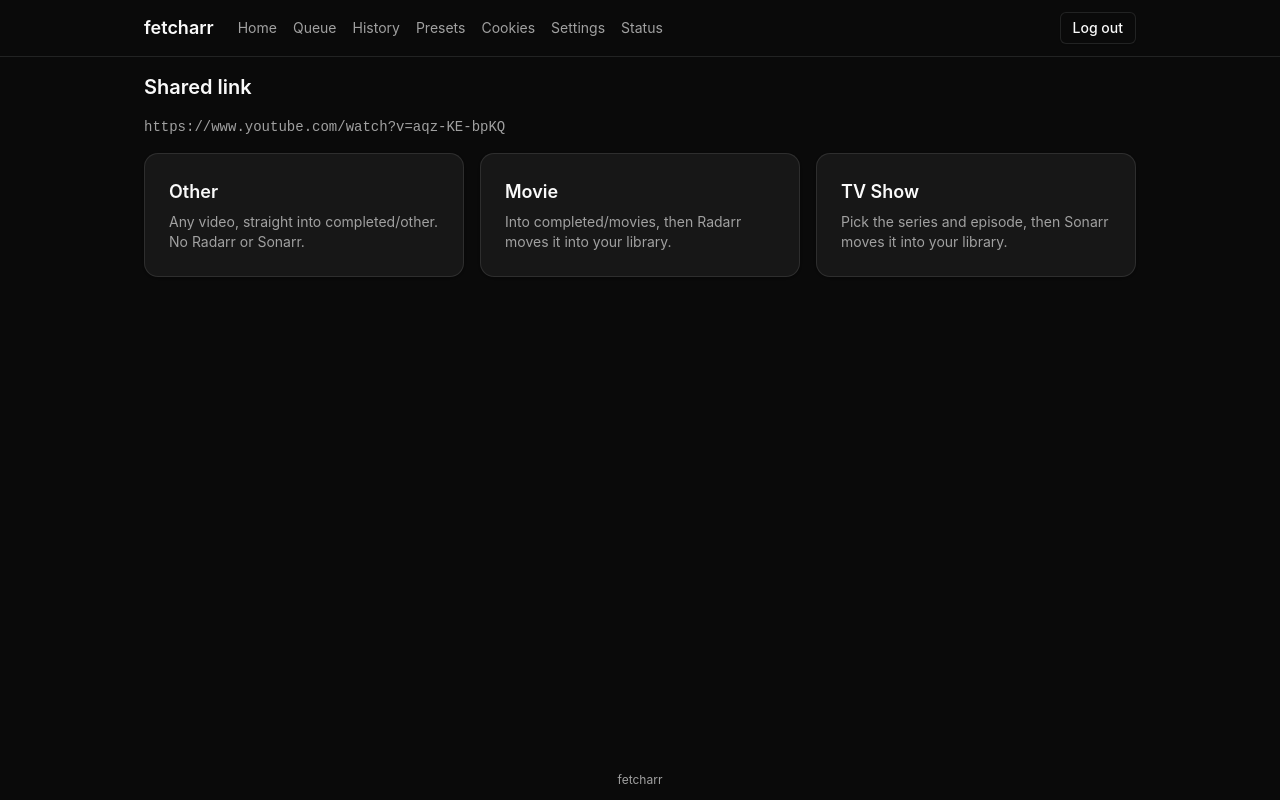
Test case: SharePage (AC7) › hands the url to the Other wizard, which inspects it
This screenshot has width=1280, height=800.
Click the link "Other": (304, 215) [144, 153, 464, 277]
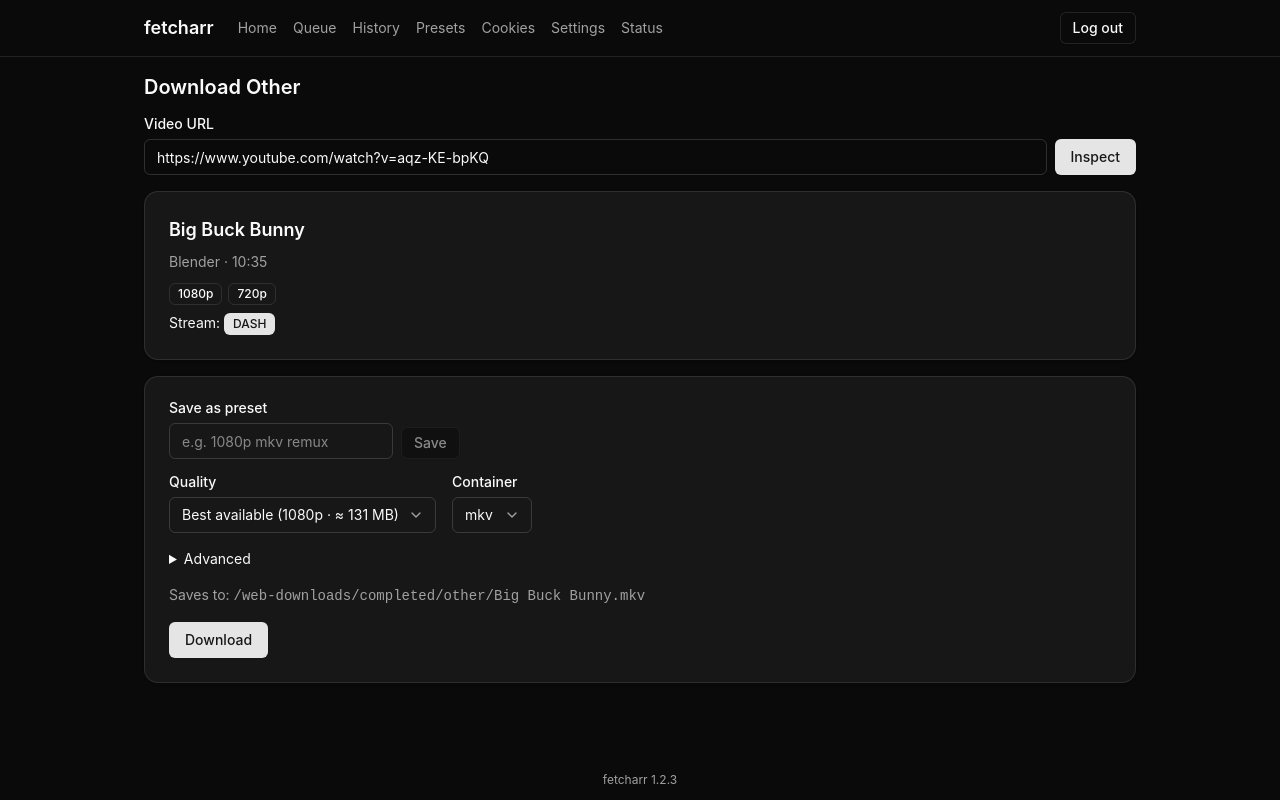
expect the field labelled "Video URL" holds "https://www.youtube.com/watch?v=aqz-KE-bpKQ": met, box [144, 139, 1046, 175]
expect the heading "Big Buck Bunny" is shown: met, box [169, 216, 305, 244]
